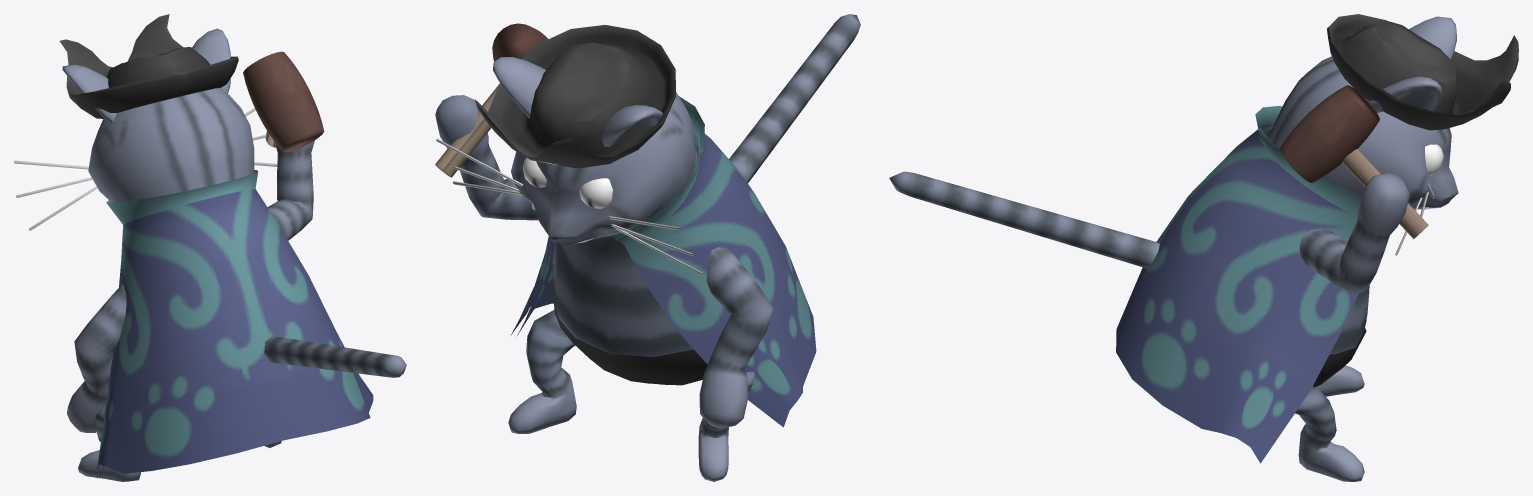
File: neko_fix_03.fbx
3 views of the same model, side by side, from view 1: azimuth 30°, elevation 25°; view 2: azimuth 150°, elevation 25°; view 3: azimuth 270°, elevation 25° (orthographic). The views are drawn at different scales.
Parts seen in each view (by area): view 1: F_03; view 2: F_03; view 3: F_03.
Boxes of the visible parts, x1,y1,x2,y2 form: F_03: (14,14,406,481); F_03: (435,14,860,481); F_03: (889,14,1518,481).
Bounding box in the file's own units: 1.11 × 1.51 × 2.13.
Materials: 1 (1 with a texture image).
